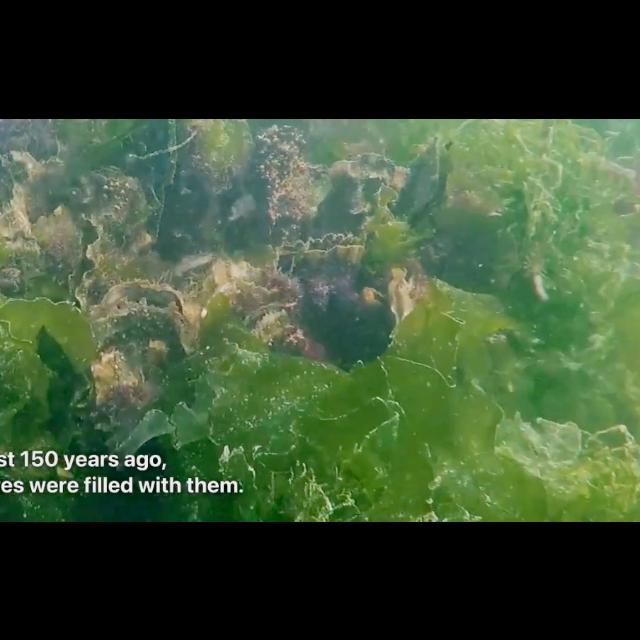Oyster-Closed: (316, 146, 412, 234), (70, 159, 152, 259), (248, 120, 316, 230)
Oyster-Open: (90, 273, 190, 403), (190, 252, 300, 324), (13, 150, 77, 262), (68, 206, 132, 300), (392, 136, 453, 228), (273, 226, 365, 274), (240, 293, 306, 345), (0, 202, 40, 254), (386, 260, 416, 314), (356, 284, 386, 310)
